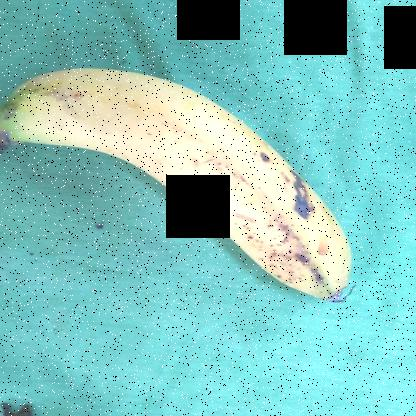ripe: (5, 62, 362, 308)
